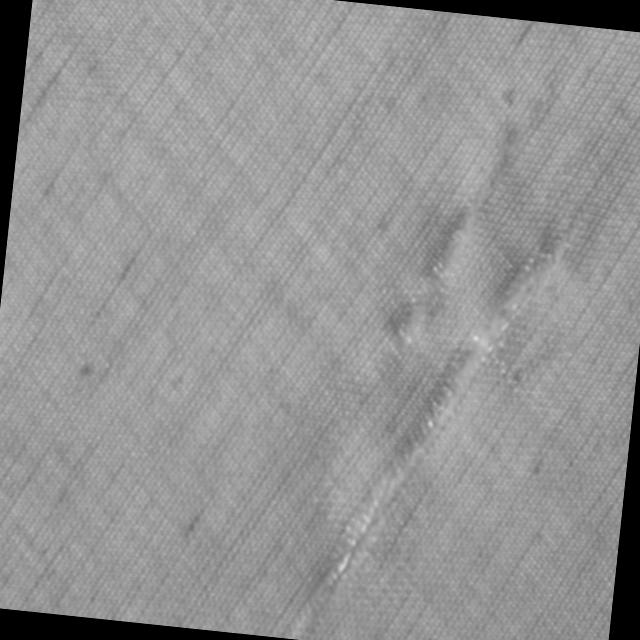thread error: (293, 194, 570, 640), (380, 200, 472, 357)
